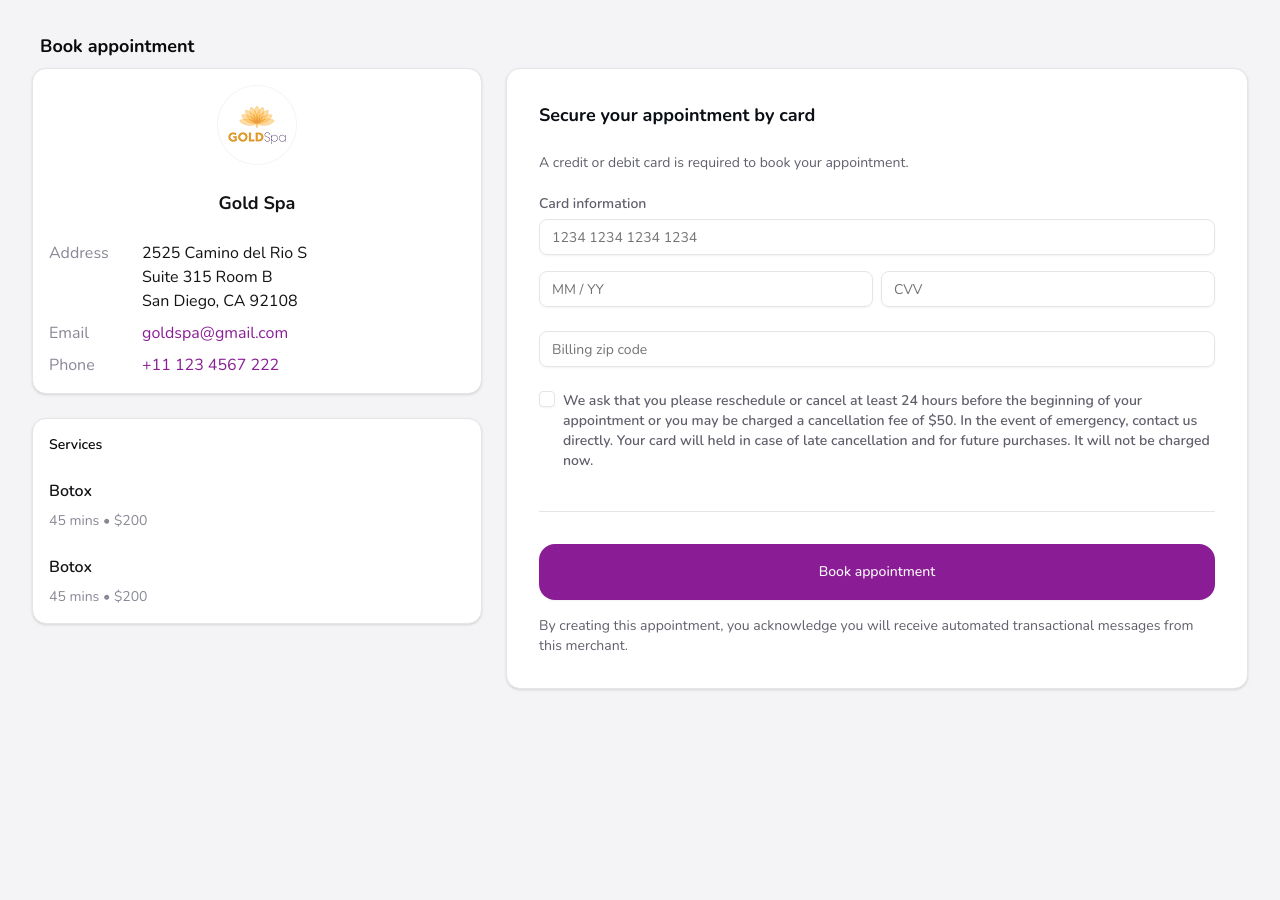
Test: PaymentInformation › shows validation error when checkbox is not checked
// Fill all required fields except checkbox
Type "1234 5678 9012 3456" into the field labelled "Card information" at (877, 237), box [539, 219, 1215, 255]
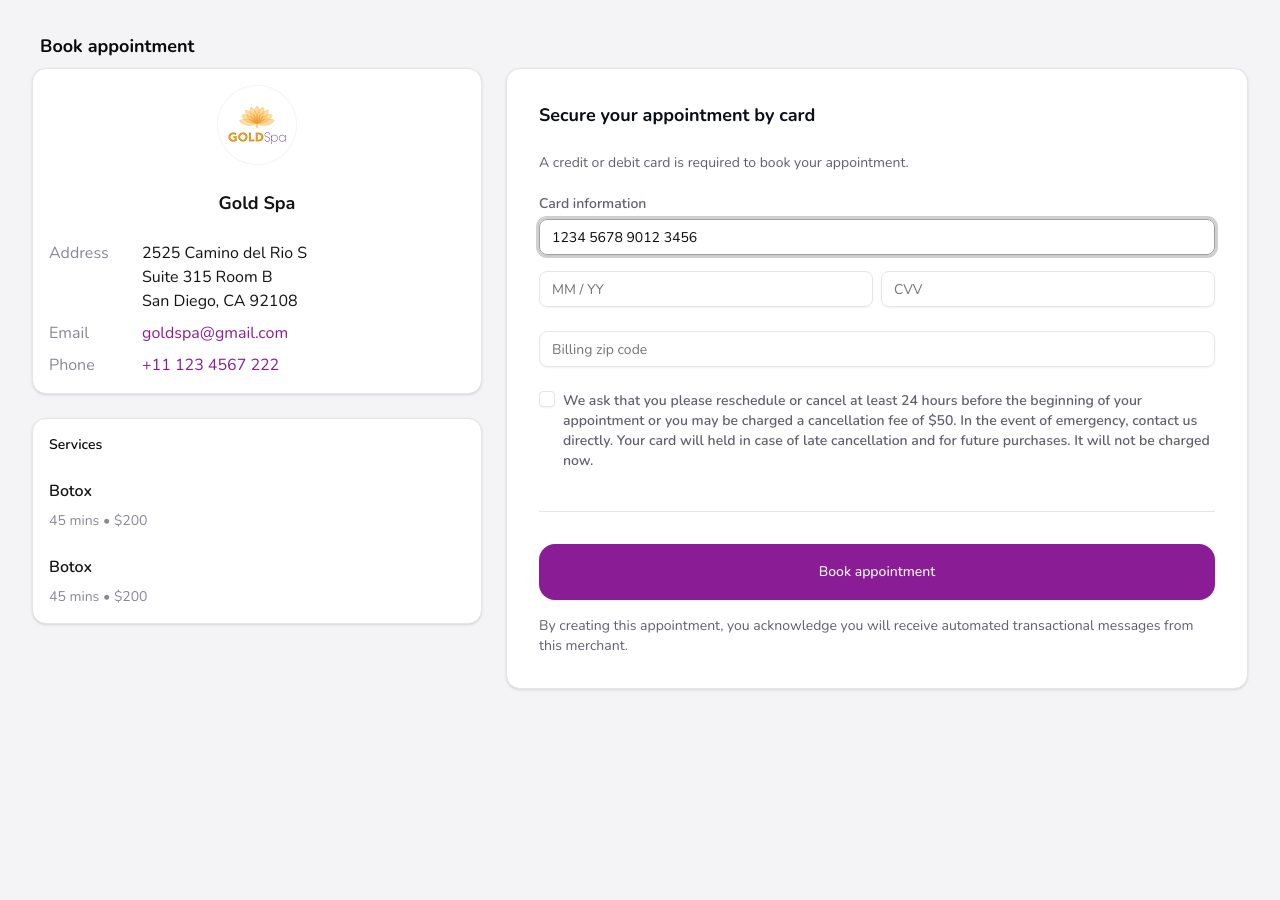
Type "12/25" into the field with placeholder "MM / YY" at (706, 289), box [539, 271, 873, 307]
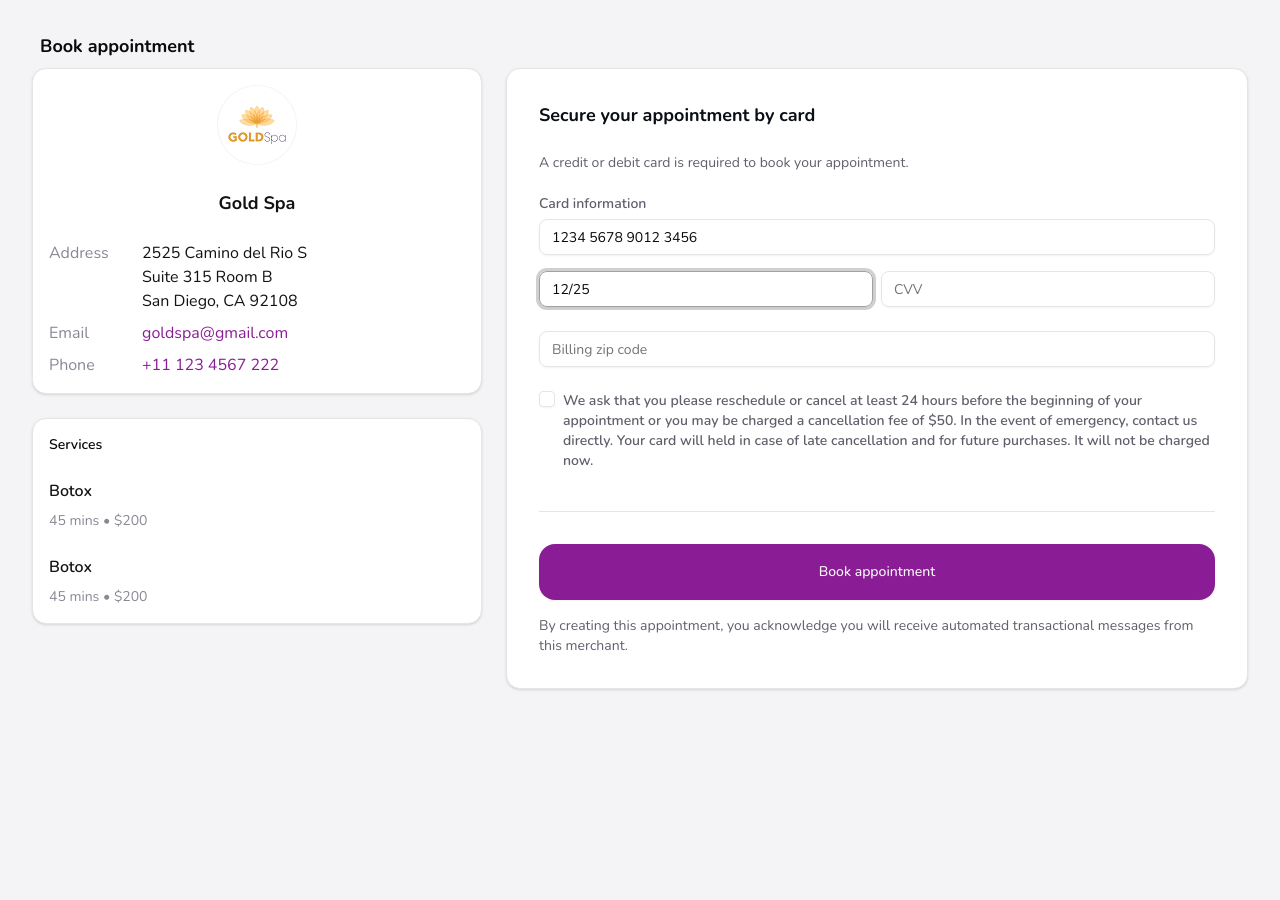
Type "123" into the field with placeholder "CVV" at (1048, 289), box [881, 271, 1215, 307]
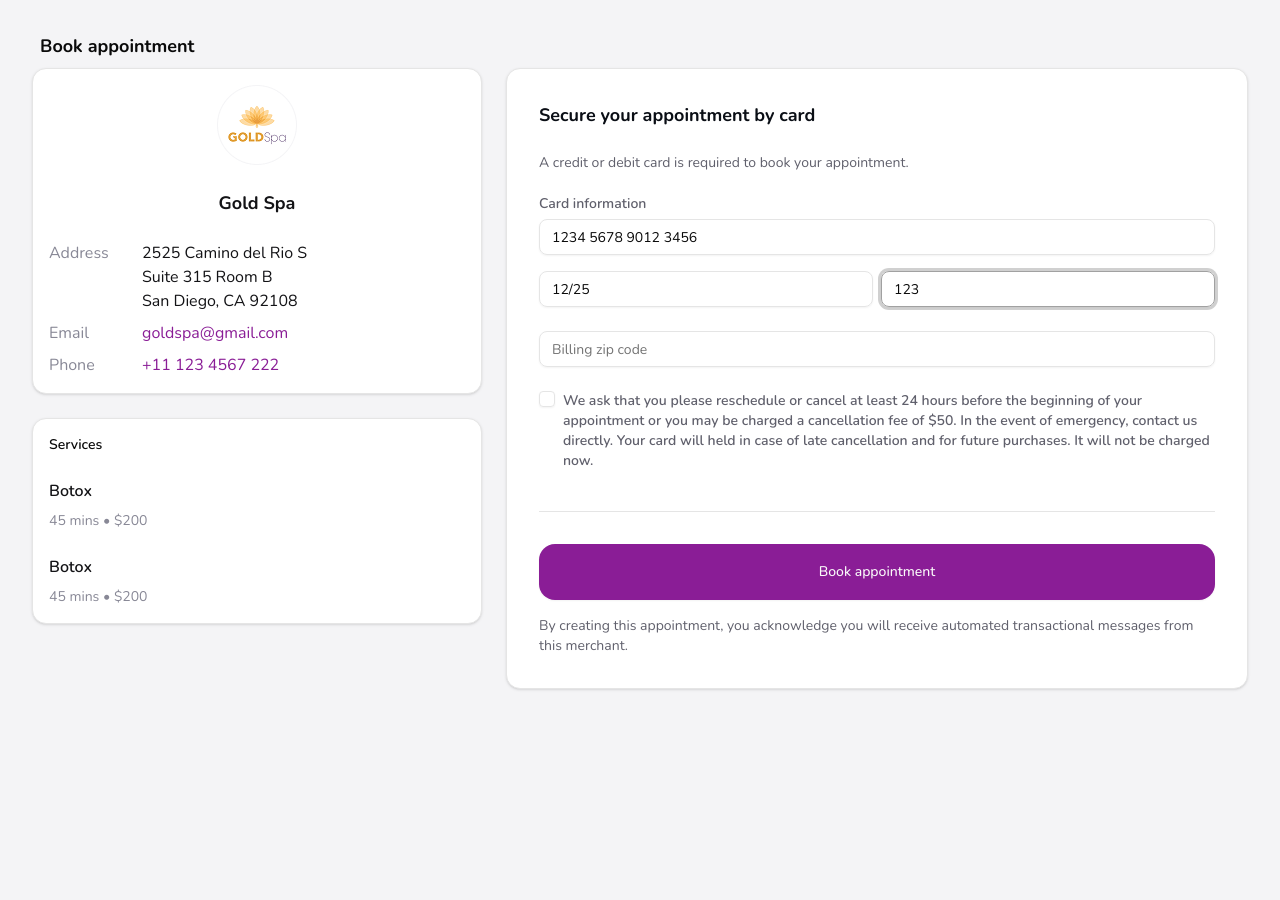
Type "12345" into the field with placeholder "Billing zip code" at (877, 349), box [539, 331, 1215, 367]
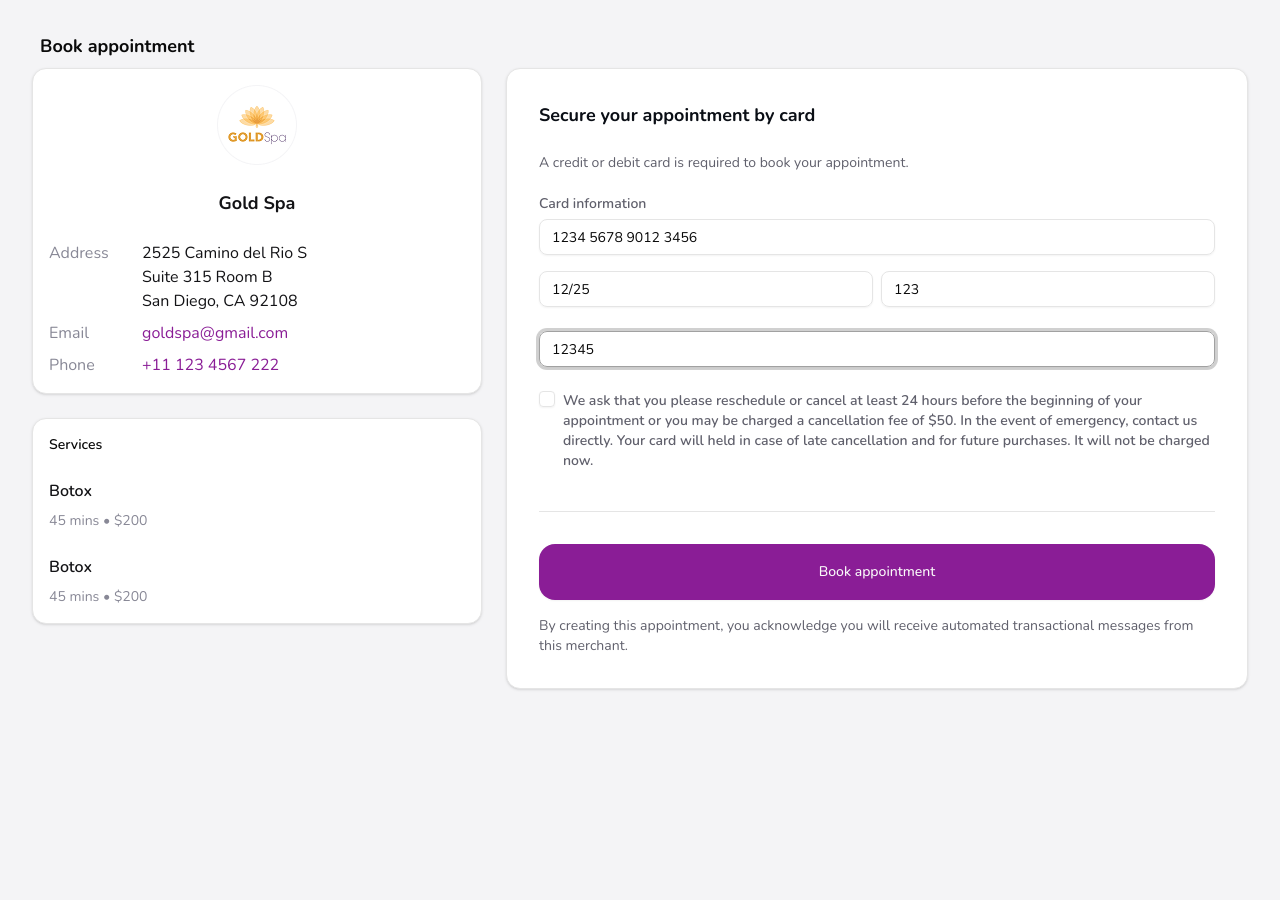
Click the button "Book appointment" at (877, 572), box [539, 544, 1215, 600]
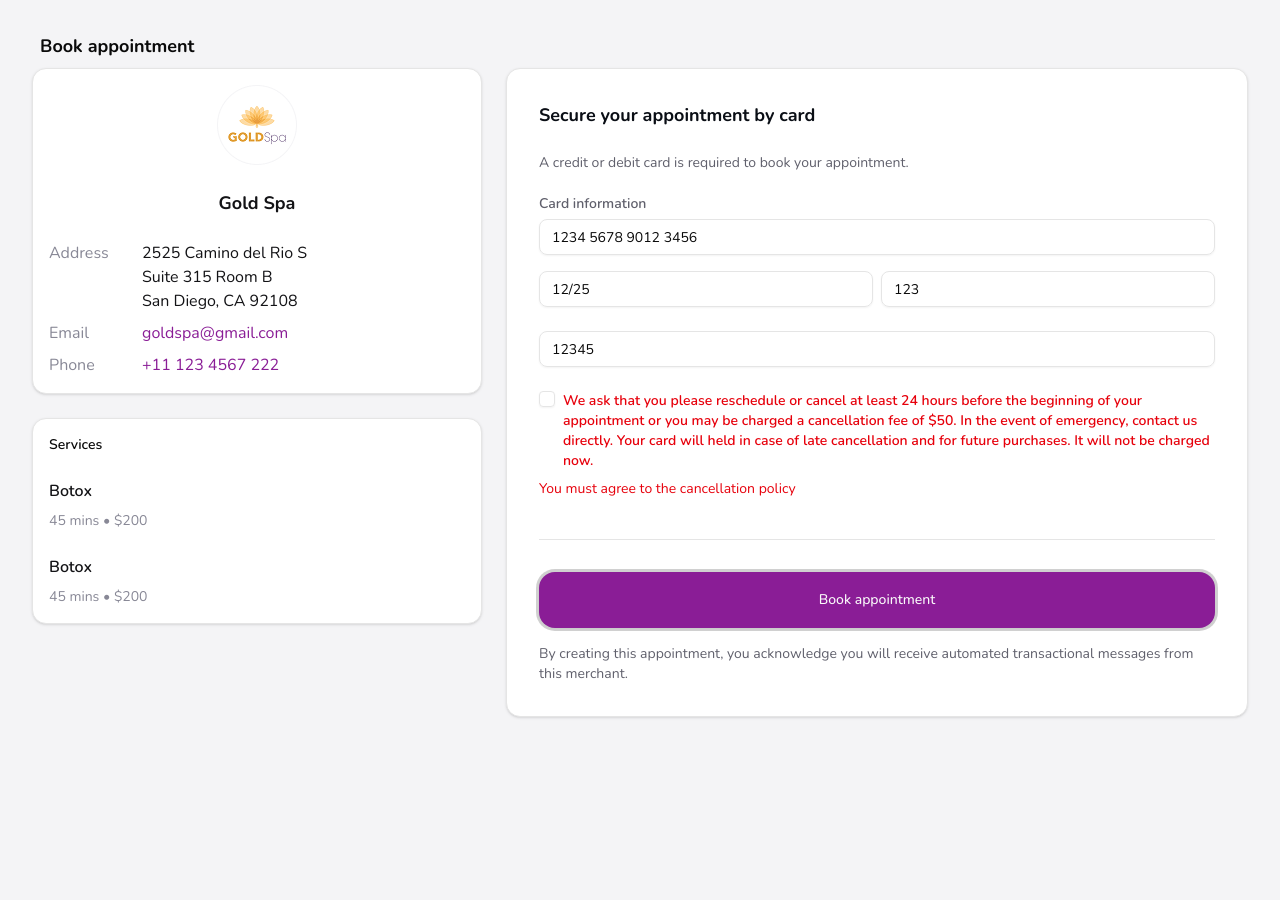
Check: the text "You must agree to the cancellation policy" is shown, box [539, 479, 796, 498]
